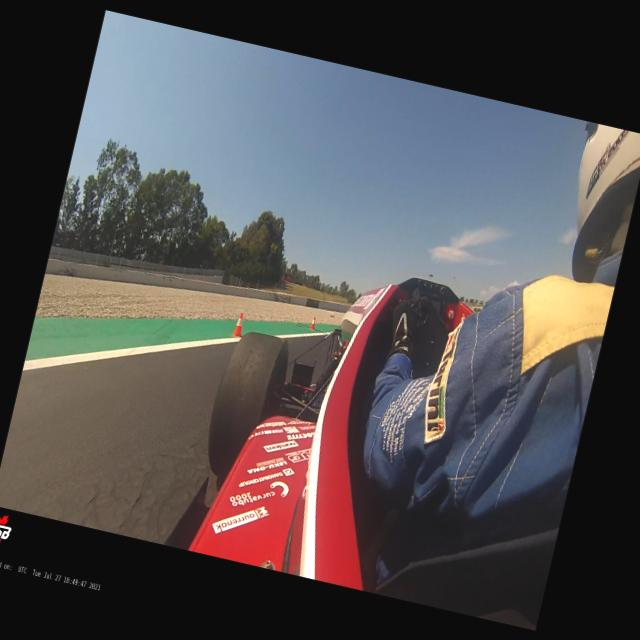orange_cone: (230, 311, 247, 339), (308, 316, 316, 330)
